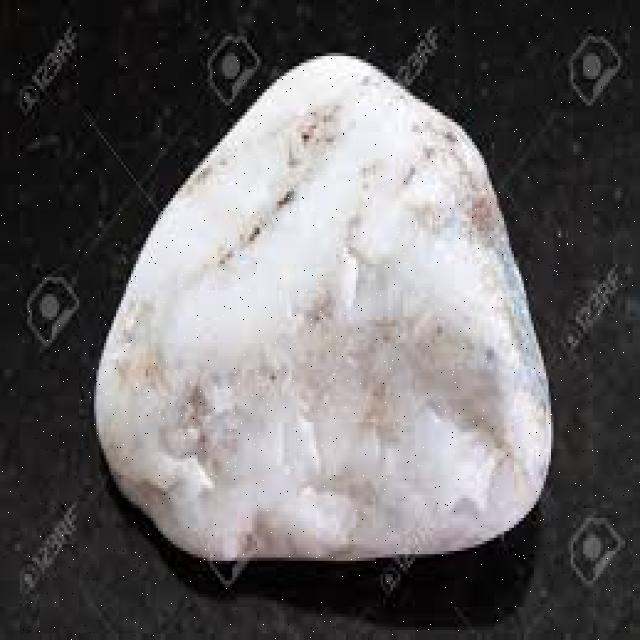Metamorphic: (96, 56, 556, 561)
